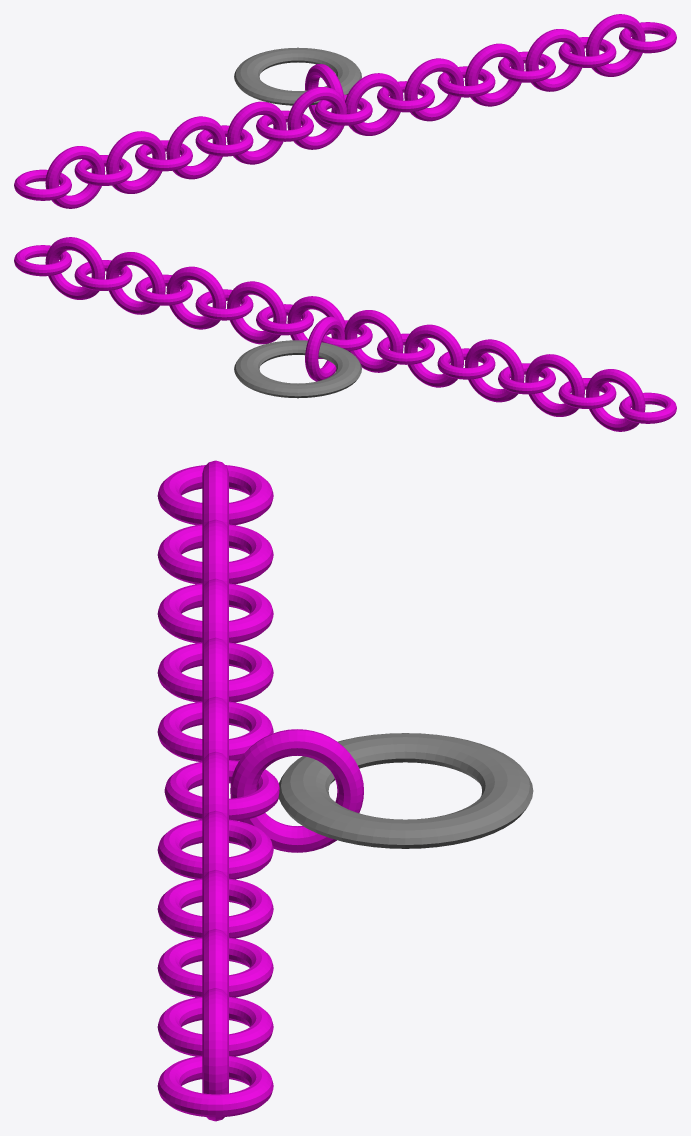
File: Hypno_necklace.fbx
3 renders of one model, top to bottom at view 1: azimuth 30°, elevation 25°; view 2: azimuth 150°, elevation 25°; view 3: azimuth 270°, elevation 25°, orthographic. The views are drawn at different scales.
Visible parts, largest first — view 1: Torus, Torus.001, Torus.003, Torus.012, Torus.006, Torus.010, Torus.020, Torus.014, Torus.008, Torus.018, Torus.016, Torus.002 (+10 smaller); view 2: Torus, Torus.001, Torus.012, Torus.006, Torus.010, Torus.020, Torus.014, Torus.008, Torus.018, Torus.016, Torus.003, Torus.011 (+10 smaller); view 3: Torus, Torus.001, Torus.021, Torus.011, Torus.009, Torus.019, Torus.007, Torus.017, Torus.005, Torus.013, Torus.015, Torus.004 (+10 smaller).
Boxes of the visible parts, x1,y1,x2,y2 form: Torus: (234,47,361,105); Torus.001: (305,64,372,128); Torus.003: (287,87,347,149); Torus.012: (45,146,105,208); Torus.006: (227,101,286,164); Torus.010: (106,131,165,193); Torus.020: (585,14,645,76); Torus.014: (404,58,463,121); Torus.008: (166,116,226,179); Torus.018: (525,29,584,91); Torus.016: (464,43,524,106); Torus.002: (345,73,403,135); Torus: (234,340,361,398); Torus.001: (305,316,372,381); Torus.012: (585,369,645,431); Torus.006: (404,324,463,387); Torus.010: (525,354,584,416); Torus.020: (45,237,105,299); Torus.014: (227,281,286,344); Torus.008: (464,339,524,402); Torus.018: (106,252,165,314); Torus.016: (166,266,226,329); Torus.003: (344,310,403,372); Torus.011: (619,392,676,423); Torus: (278,733,533,848); Torus.001: (164,729,363,852); Torus.021: (157,1056,273,1117); Torus.011: (157,465,273,525); Torus.009: (157,524,273,584); Torus.019: (157,996,273,1056); Torus.007: (157,583,273,643); Torus.017: (157,937,273,997); Torus.005: (157,642,273,702); Torus.013: (157,819,273,879); Torus.015: (157,878,273,938); Torus.004: (157,701,273,761).
Bounding box in the file's own units: 226 × 20 × 56.14.
